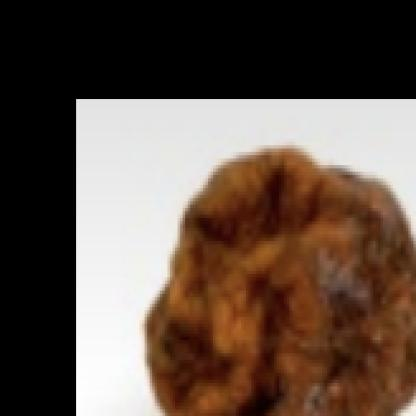rotten: (148, 147, 416, 416)
